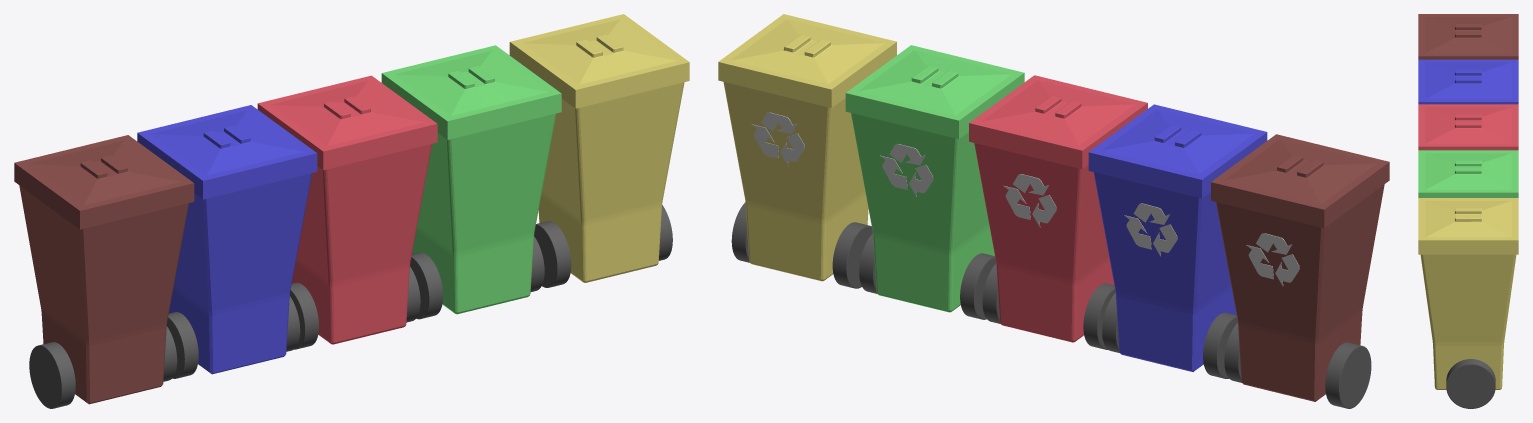
Rendered from Trash Color.fbx.
The picture shows the model from 3 angles, left to right: view 1: azimuth 30°, elevation 25°; view 2: azimuth 150°, elevation 25°; view 3: azimuth 270°, elevation 25°; orthographic projection. The views are drawn at different scales.
Parts seen in each view (by area): view 1: Cube.008, Cube, Cube.003, Cube.007, Cube.004, Cube.009, Cube.001, Cube.002, Cube.006, Cube.005, Cano.018, Cano.002 (+3 smaller); view 2: Cube.008, Cube, Cube.003, Cube.007, Cube.004, Cube.009, Cube.001, Cube.002, Cube.006, Cube.005, Cano.018, Cano.002 (+13 smaller); view 3: Cube, Cube.001, Cube.002, Cube.005, Cube.006, Cube.009, Cano.003.
Part boxes in pixels (bbox=[...]): Cube.008: bbox=[19, 185, 188, 404]; Cube: bbox=[538, 82, 684, 282]; Cube.003: bbox=[412, 113, 556, 314]; Cube.007: bbox=[168, 173, 311, 374]; Cube.004: bbox=[291, 144, 431, 344]; Cube.009: bbox=[14, 135, 194, 229]; Cube.001: bbox=[509, 14, 689, 108]; Cube.002: bbox=[381, 45, 561, 139]; Cube.006: bbox=[137, 105, 317, 199]; Cube.005: bbox=[257, 75, 437, 170]; Cano.018: bbox=[29, 342, 75, 408]; Cano.002: bbox=[534, 221, 571, 287]; Cube.008: bbox=[1216, 184, 1384, 401]; Cube: bbox=[723, 82, 868, 281]; Cube.003: bbox=[851, 113, 994, 312]; Cube.007: bbox=[1093, 172, 1236, 371]; Cube.004: bbox=[974, 143, 1114, 342]; Cube.009: bbox=[1211, 134, 1389, 228]; Cube.001: bbox=[718, 14, 896, 107]; Cube.002: bbox=[845, 45, 1024, 138]; Cube.006: bbox=[1088, 104, 1267, 198]; Cube.005: bbox=[969, 75, 1147, 169]; Cano.018: bbox=[1325, 342, 1371, 408]; Cano.002: bbox=[832, 222, 872, 288]; Cube: bbox=[1420, 254, 1516, 389]; Cube.001: bbox=[1418, 198, 1518, 254]; Cube.002: bbox=[1418, 150, 1518, 197]; Cube.005: bbox=[1418, 104, 1518, 150]; Cube.006: bbox=[1418, 59, 1518, 104]; Cube.009: bbox=[1418, 14, 1518, 59]; Cano.003: bbox=[1446, 359, 1495, 408].
Bounding box in the file's own units: 531 × 190 × 99.06.
